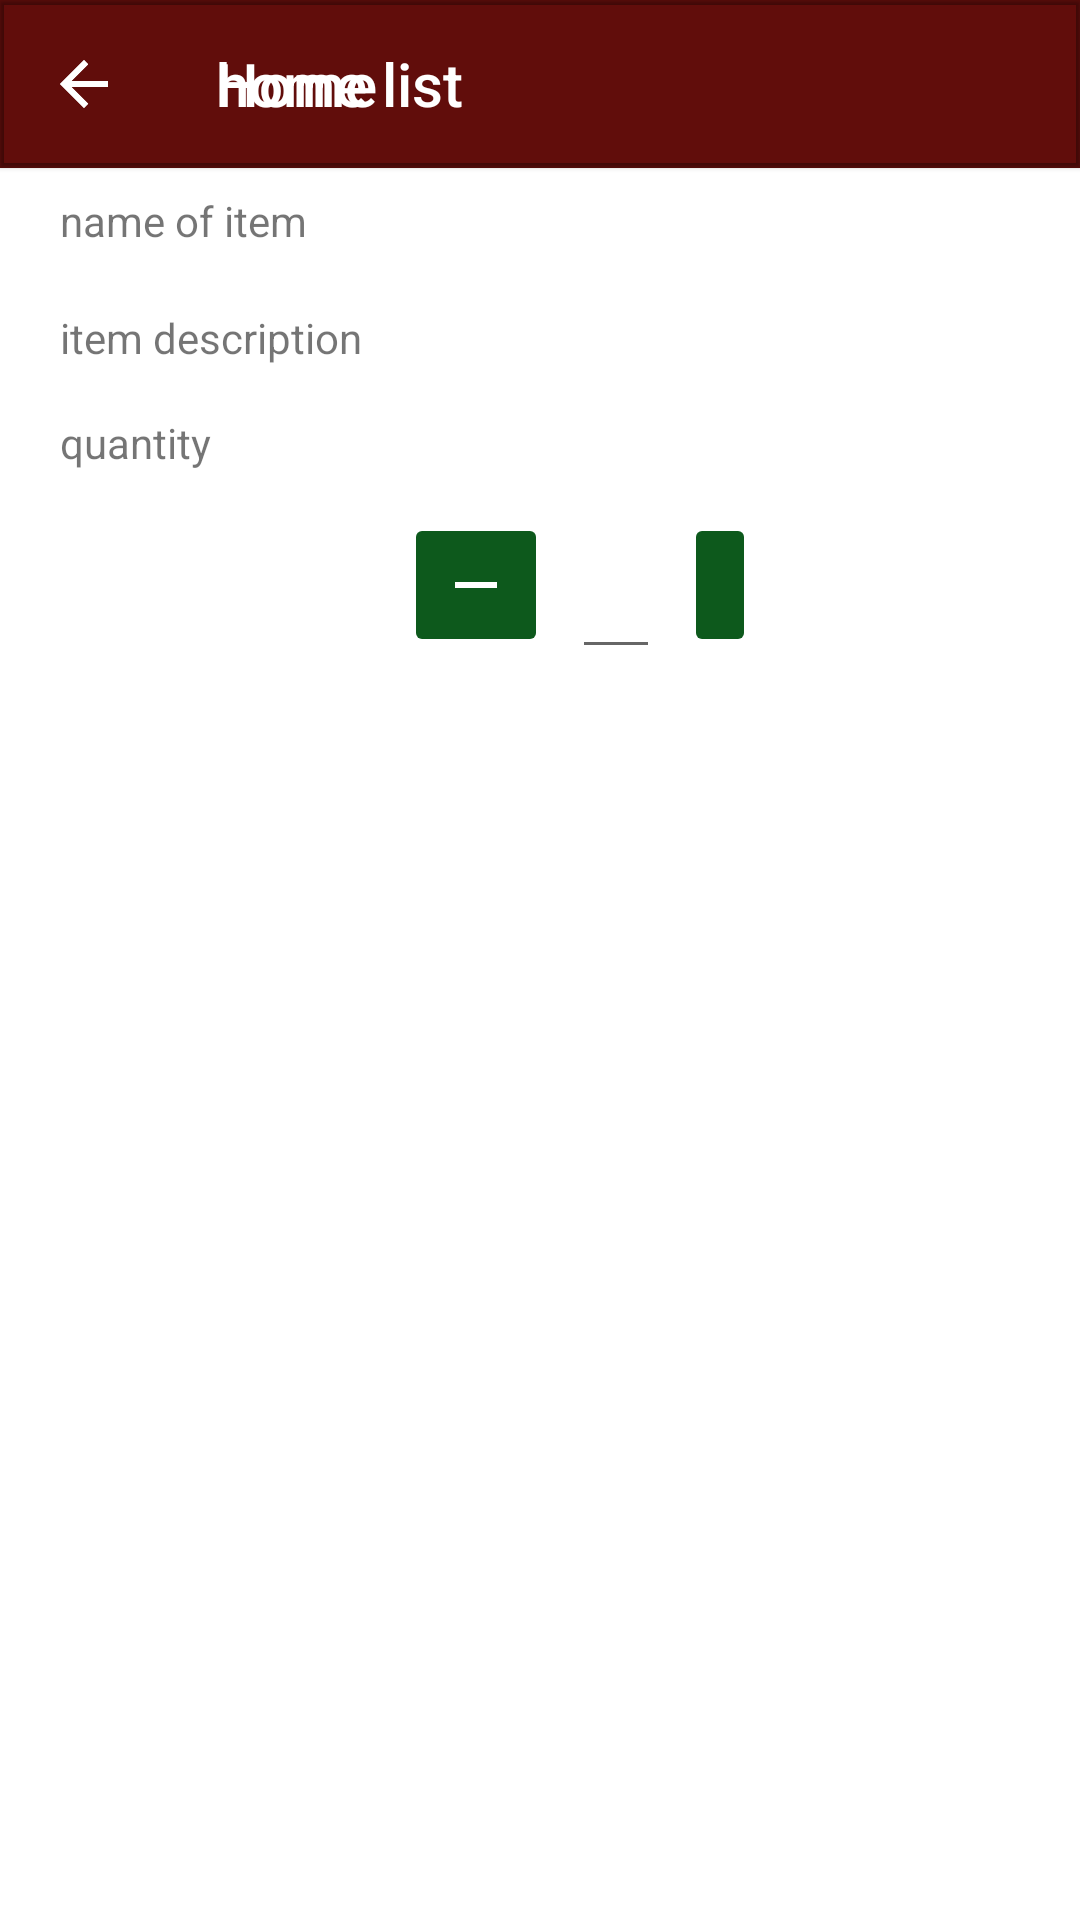

Where to tap for icons on this 1080x1920 app screen, as point (x, y):
remove button: point (476, 585)
